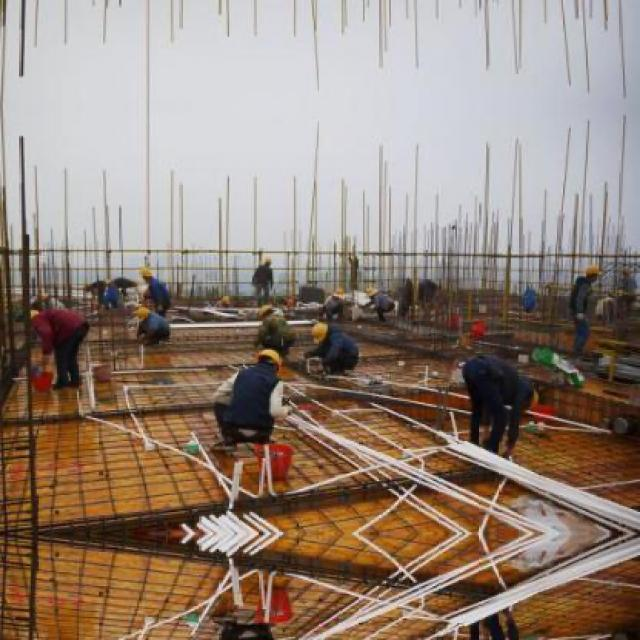helmet: (254, 345, 283, 375), (520, 388, 546, 414), (312, 320, 334, 346), (257, 300, 277, 320), (332, 282, 351, 302), (585, 264, 603, 285), (25, 307, 40, 330), (140, 265, 155, 281), (136, 304, 150, 321)
